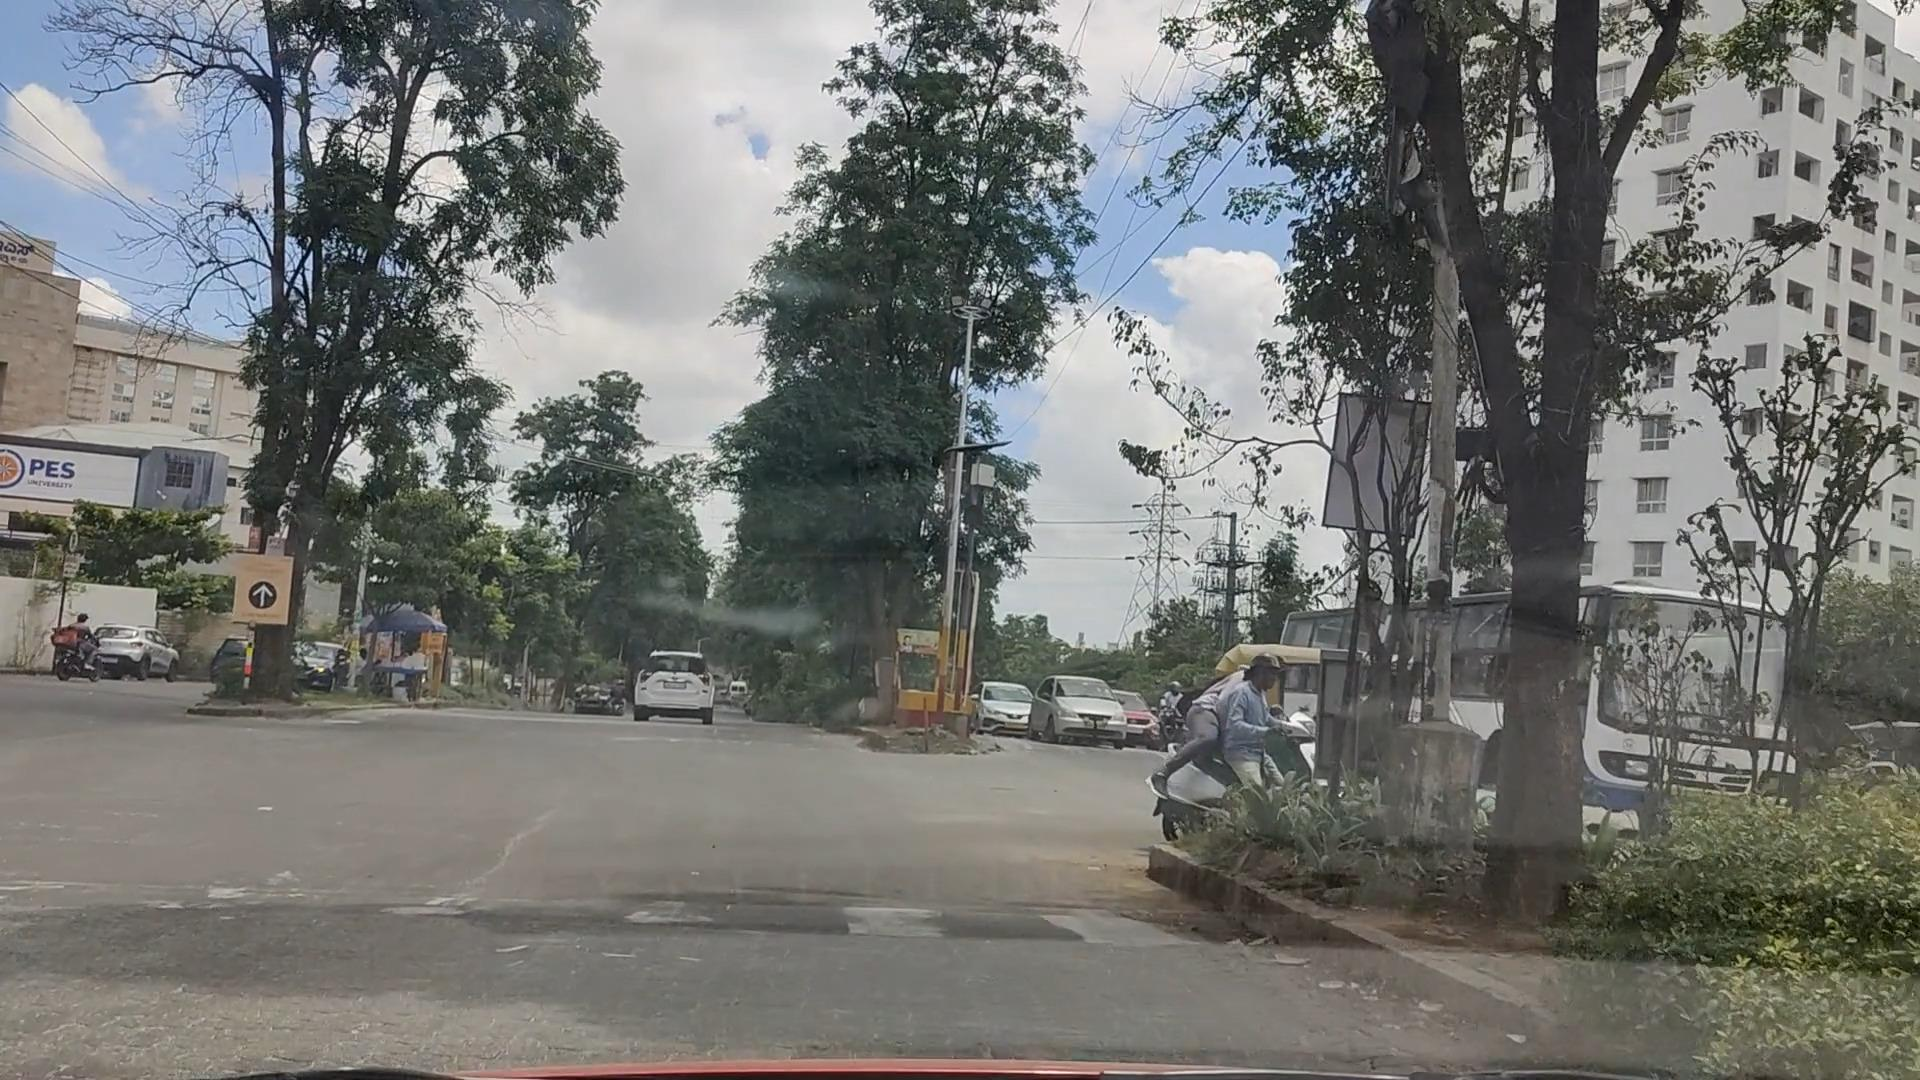RoadDamages: (463, 802, 559, 886)
SpeedBump: (0, 898, 1395, 1054)
